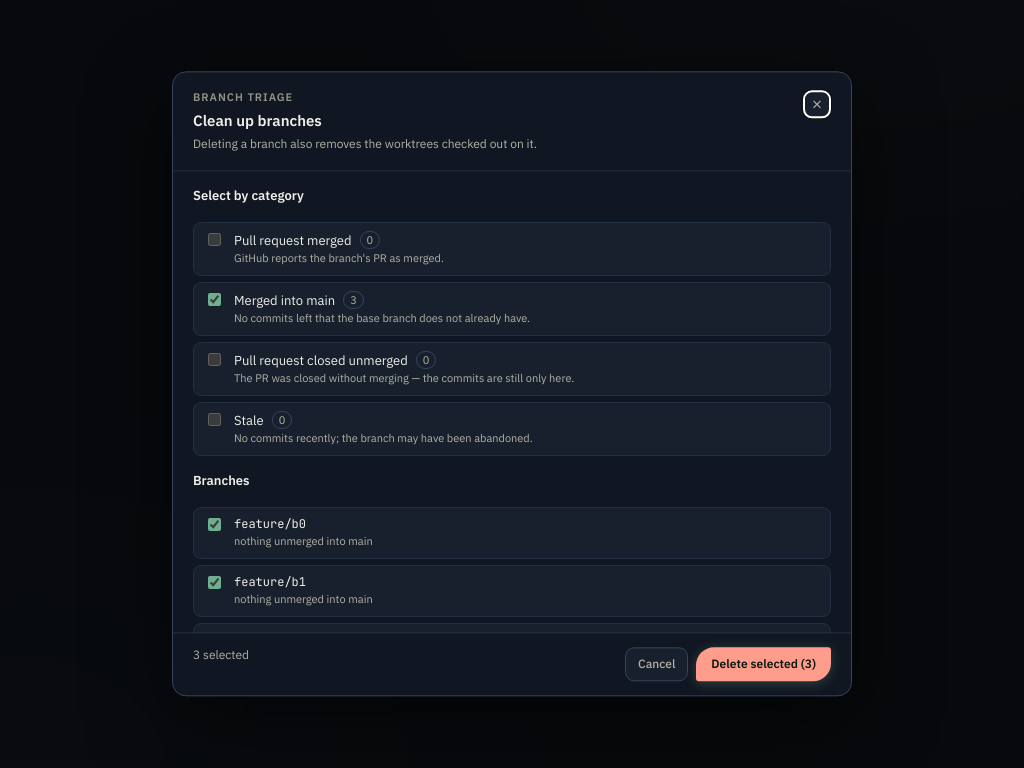
Test: the footer keeps the refused count once the run is at rest
Click the button "Delete selected (3)" at {"x": 764, "y": 664}, box x1=696 y1=647 x2=831 y2=682
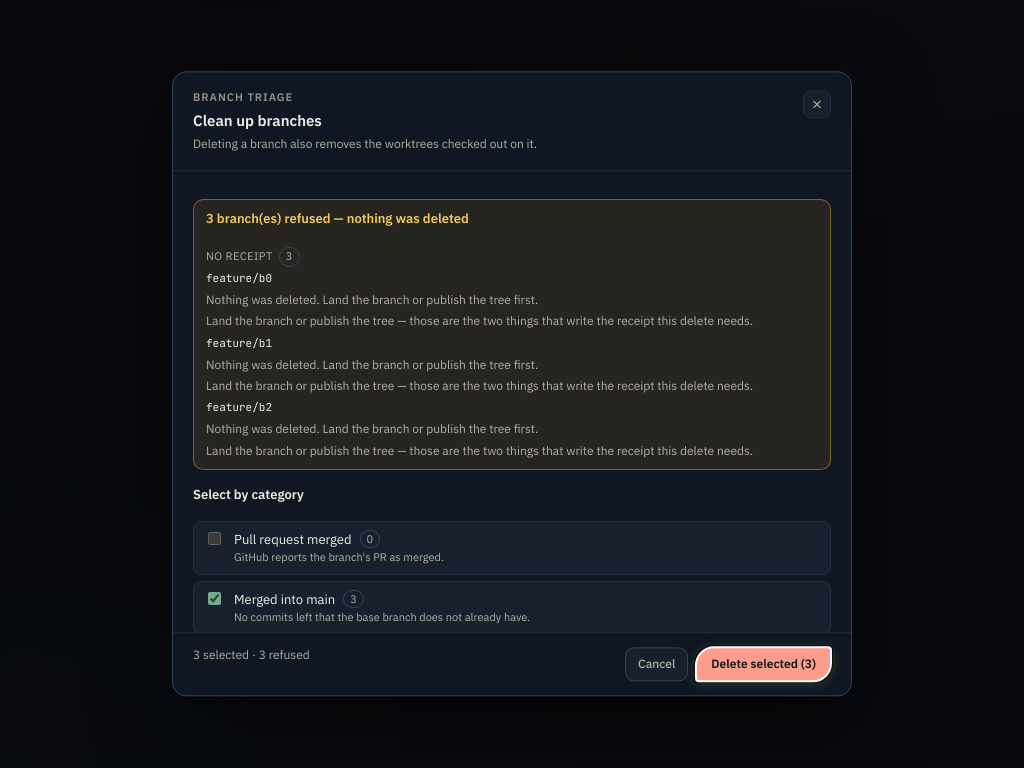
expect the element with class "branch-cleanup-status" does not show "Deleting": met
expect the message with class "branch-cleanup-refusals" is shown: met, box x1=193 y1=200 x2=831 y2=470
expect the text with class "branch-cleanup-status" shows "3 refused": met, box x1=193 y1=647 x2=310 y2=662
